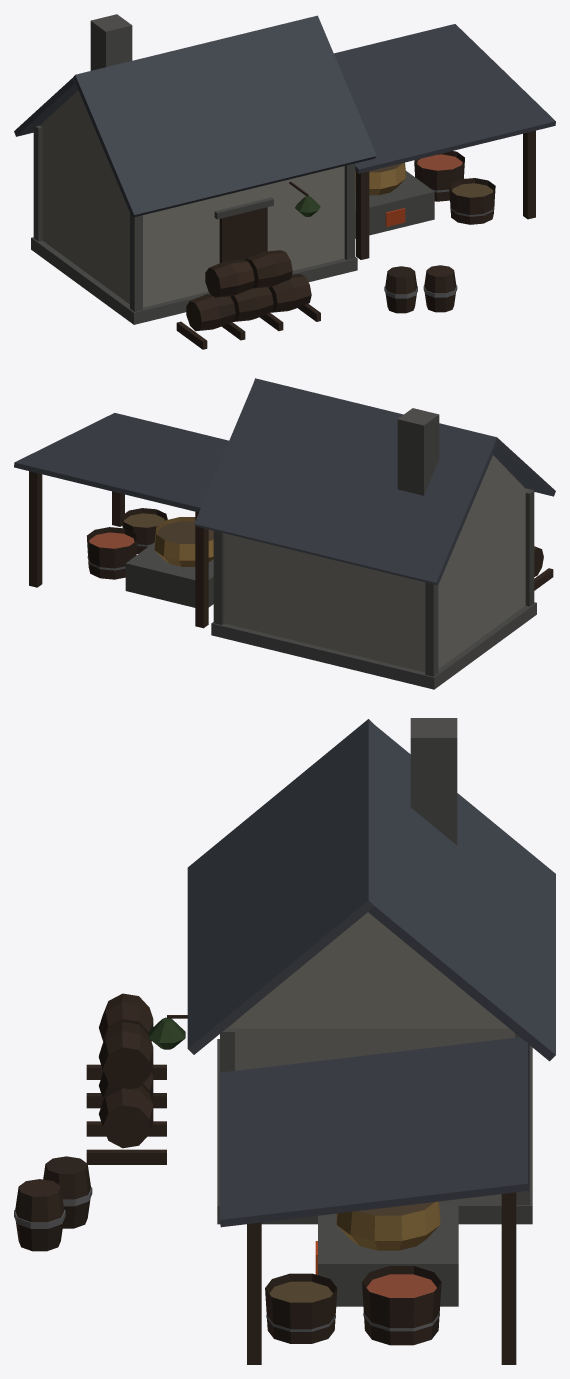
Rendered from walk_freehold_brewery.glb.
3 views of the same model, one above another, from view 1: azimuth 30°, elevation 25°; view 2: azimuth 150°, elevation 25°; view 3: azimuth 270°, elevation 25° (orthographic). The views are drawn at different scales.
Parts seen in each view (by area): view 1: walk_freehold_brewery_roof, walk_freehold_brewery; view 2: walk_freehold_brewery_roof, walk_freehold_brewery; view 3: walk_freehold_brewery_roof, walk_freehold_brewery.
Boxes of the visible parts, box(x1,y1,x2,y2) form: walk_freehold_brewery_roof: box(14, 14, 555, 217); walk_freehold_brewery: box(31, 90, 535, 349); walk_freehold_brewery_roof: box(14, 378, 555, 585); walk_freehold_brewery: box(29, 455, 553, 689); walk_freehold_brewery_roof: box(187, 718, 555, 1227); walk_freehold_brewery: box(14, 912, 532, 1364).
Size of what is drawn, in the model's own units: 11.4 by 6.01 by 8.08.
Materials: 2 (2 with a texture image).
